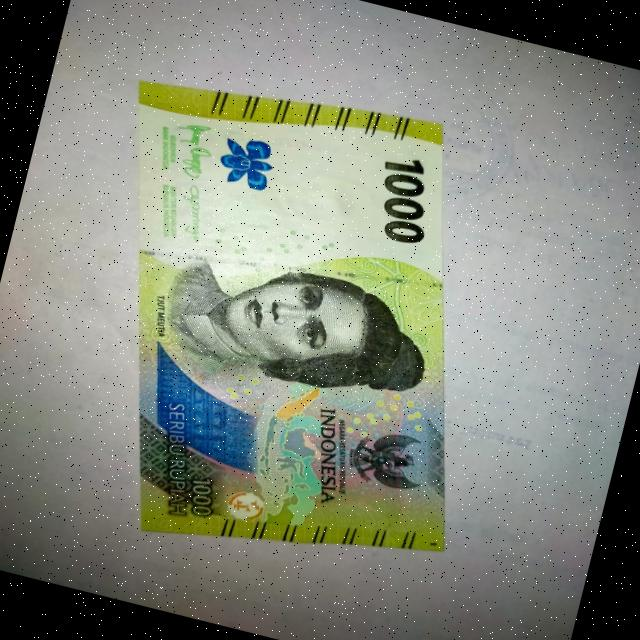1K: (21, 39, 562, 618)
